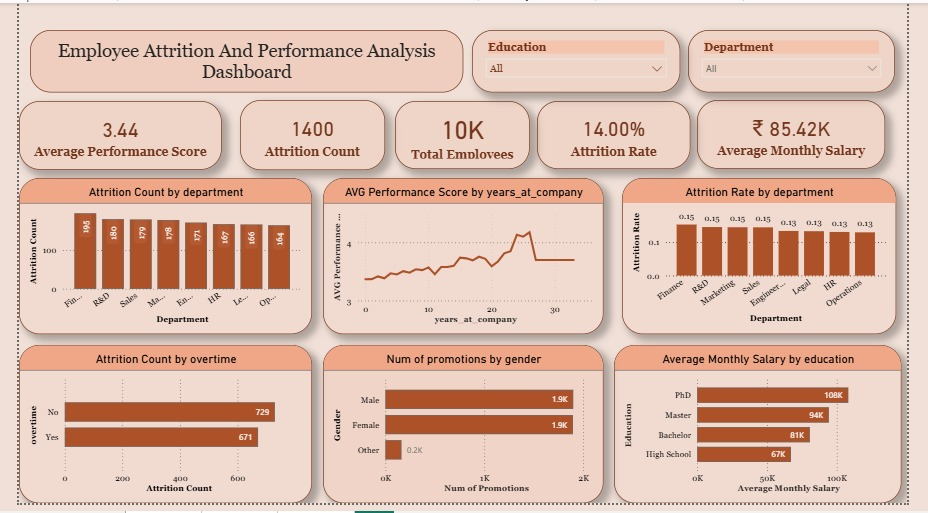

What the dashboard file says about the page in this screenshot:
{"tool":"powerbi","page":{"name":"Page 1","canvas":[1280,720],"ordinal":0},"visuals":[{"type":"card","fields":{"Values":["employee_attrition_performance.Total Employees"]},"box":[542.2,141.2,194.1,97.8],"z":0},{"type":"card","fields":{"Values":["employee_attrition_performance.Attrition Count"]},"box":[317.6,139.5,208.5,101.1],"z":1000},{"type":"card","fields":{"Values":["employee_attrition_performance.Attrition Rate"]},"box":[745.9,141.2,221.4,97.8],"z":2000},{"type":"card","fields":{"Values":["employee_attrition_performance.Average Monthly Salary"]},"box":[976.8,139.5,271.1,99.4],"z":3000},{"type":"card","fields":{"Values":["employee_attrition_performance.Average Performance Score"]},"box":[0,141.2,291.9,99.4],"z":4000},{"type":"clusteredColumnChart","fields":{"Category":["employee_attrition_performance.department"],"Y":["employee_attrition_performance.Attrition Count"]},"box":[0,251.8,421.9,224.6],"z":5000},{"type":"slicer","fields":{"Values":["employee_attrition_performance.department"]},"box":[964,38.5,298.3,89.8],"z":6000},{"type":"lineChart","title":"AVG Performance Score by years_at_company","fields":{"Category":["employee_attrition_performance.years_at_company"],"Y":["employee_attrition_performance.Average Performance Score"]},"box":[437.9,251.8,404.2,224.6],"z":7000},{"type":"barChart","fields":{"Category":["employee_attrition_performance.education"],"Y":["employee_attrition_performance.Average Monthly Salary"]},"box":[856.5,492.4,413.8,227.8],"z":8000},{"type":"clusteredBarChart","fields":{"Category":["employee_attrition_performance.overtime"],"Y":["employee_attrition_performance.Attrition Count"]},"box":[0,492.4,421.9,227.8],"z":9000},{"type":"barChart","title":"Num of promotions by gender","fields":{"Category":["employee_attrition_performance.gender"],"Y":["Sum(employee_attrition_performance.num_promotions)"]},"box":[437.9,492.4,404.2,227.8],"z":10000},{"type":"slicer","fields":{"Values":["employee_attrition_performance.education"]},"box":[652.8,38.5,299.9,89.8],"z":12000},{"type":"textbox","box":[16,38.5,624,89.8],"z":13000},{"type":"columnChart","fields":{"Category":["employee_attrition_performance.department"],"Y":["employee_attrition_performance.Attrition Rate"]},"box":[867.8,251.8,394.6,224.6],"z":13001}]}

Visuals, with their boxes in screenshot pixels (x1, y1, x2, y2), scaled from the page's 1280x720 canvas onto the 928x513 screenshot:
card - employee_attrition_performance.Total Employees: 393 101 534 170
card - employee_attrition_performance.Attrition Count: 230 99 381 171
card - employee_attrition_performance.Attrition Rate: 541 101 701 170
card - employee_attrition_performance.Average Monthly Salary: 708 99 905 170
card - employee_attrition_performance.Average Performance Score: 0 101 212 171
clusteredColumnChart - employee_attrition_performance.department x employee_attrition_performance.Attrition Count: 0 179 306 339
slicer - employee_attrition_performance.department: 699 27 915 91
"AVG Performance Score by years_at_company" lineChart: 317 179 611 339
barChart - employee_attrition_performance.education x employee_attrition_performance.Average Monthly Salary: 621 351 921 512
clusteredBarChart - employee_attrition_performance.overtime x employee_attrition_performance.Attrition Count: 0 351 306 512
"Num of promotions by gender" barChart: 317 351 611 512
slicer - employee_attrition_performance.education: 473 27 691 91
textbox: 12 27 464 91
columnChart - employee_attrition_performance.department x employee_attrition_performance.Attrition Rate: 629 179 915 339
